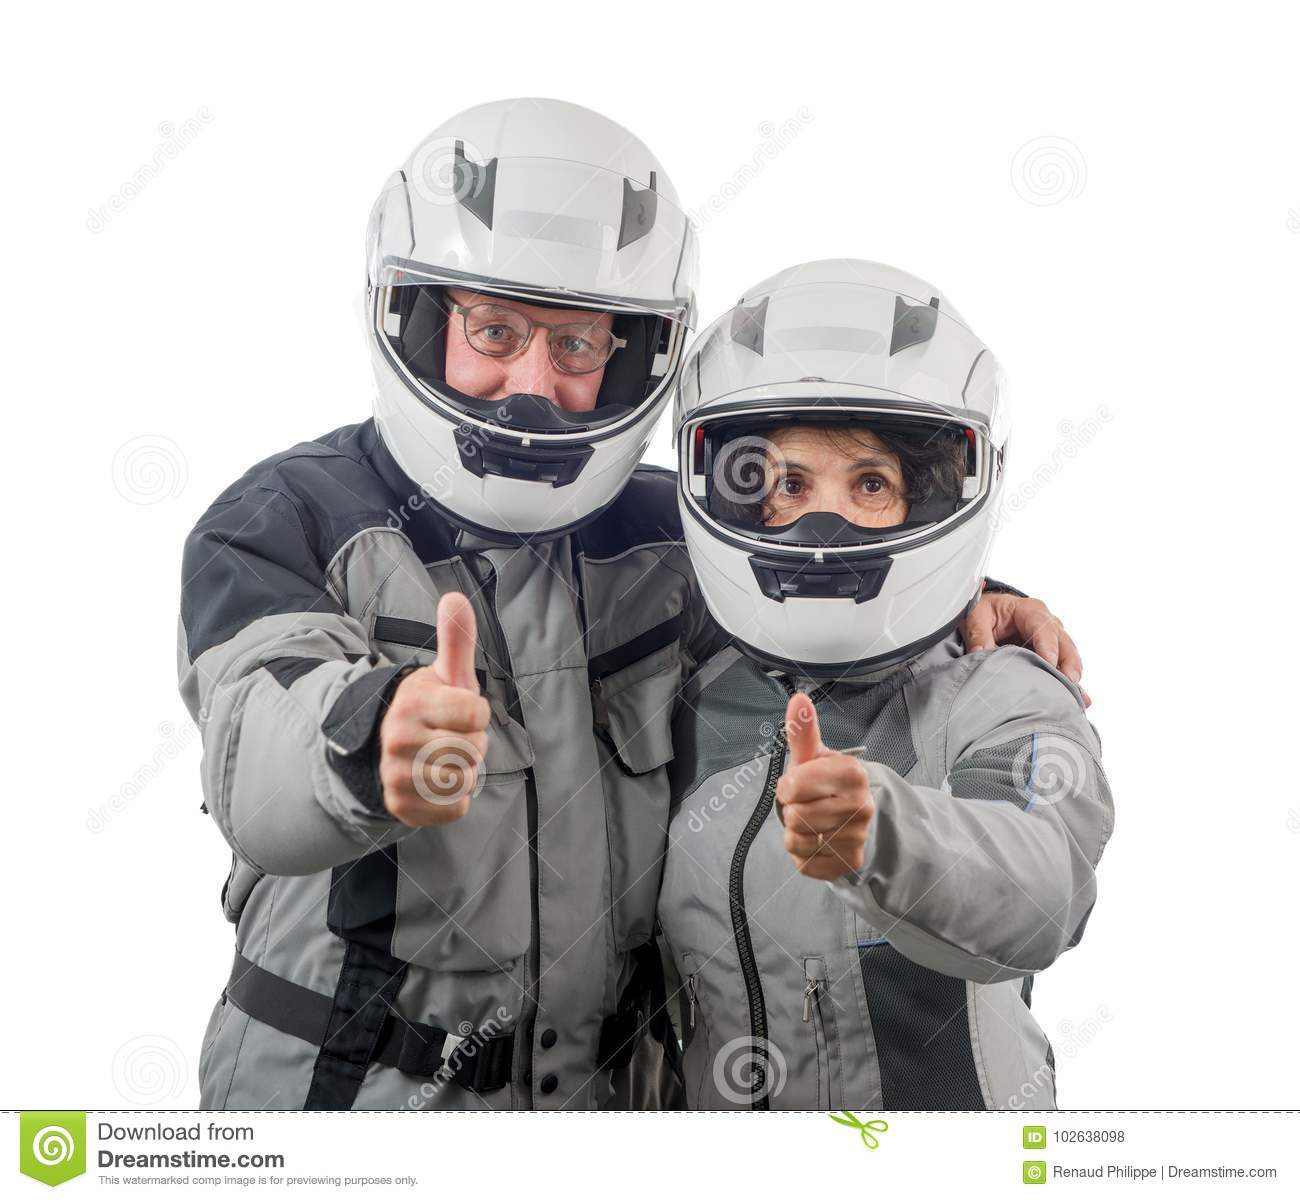helmet: (368, 102, 668, 515), (692, 278, 1016, 637)
